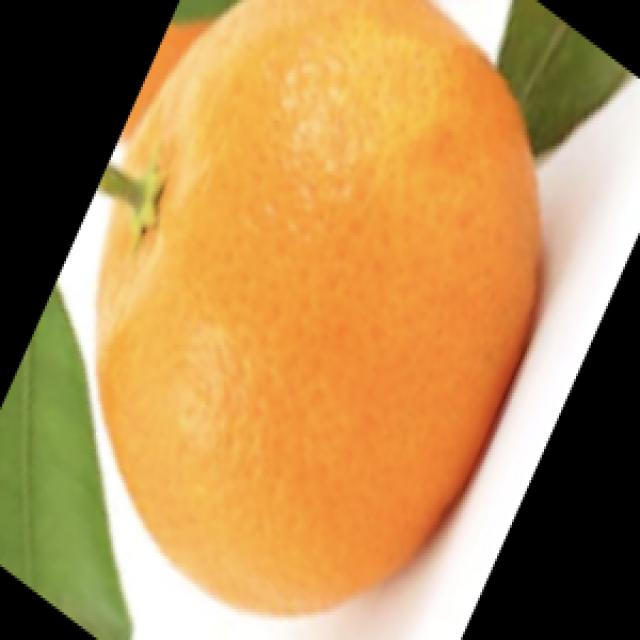fresh: (97, 0, 548, 620)
